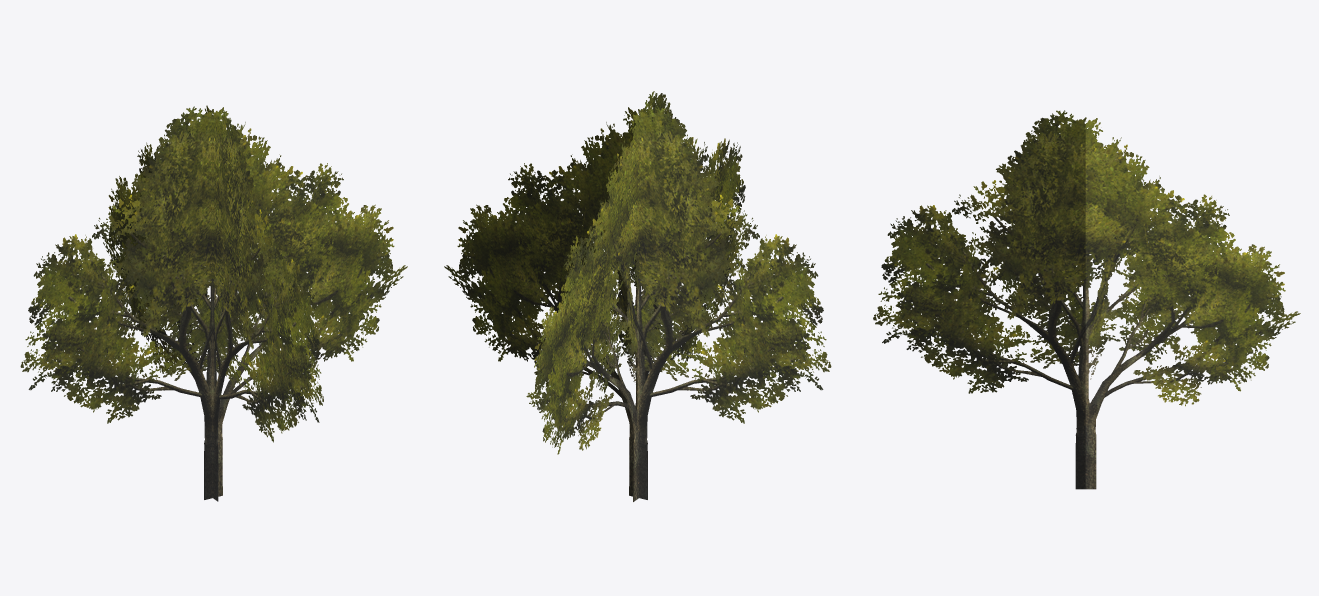
File: Southern_Magnolia_Fan_0.obj
3 views of the same model, side by side, from view 1: azimuth 30°, elevation 25°; view 2: azimuth 150°, elevation 25°; view 3: azimuth 270°, elevation 25° (orthographic). The views are drawn at different scales.
Parts seen in each view (by area): view 1: CreateFan; view 2: CreateFan; view 3: CreateFan.
Part boxes in pixels (bbox=[...]): CreateFan: bbox=[20, 105, 407, 501]; CreateFan: bbox=[444, 91, 831, 501]; CreateFan: bbox=[873, 110, 1300, 489].
Bounding box in the file's own units: 20.8 × 20 × 20.8.
1 material, 1 textured.
